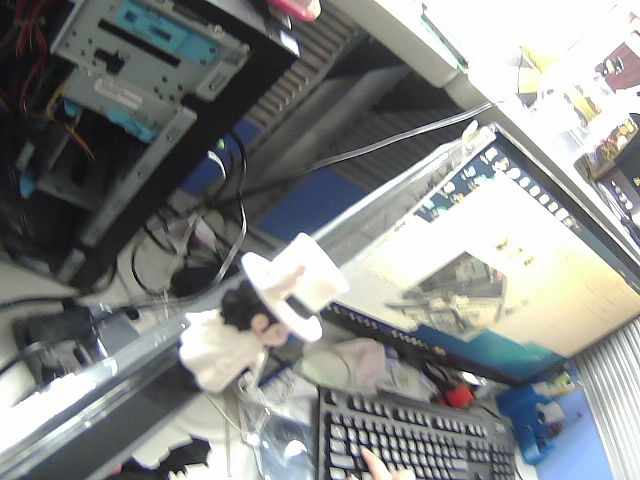lucci: (180, 228, 344, 399)
